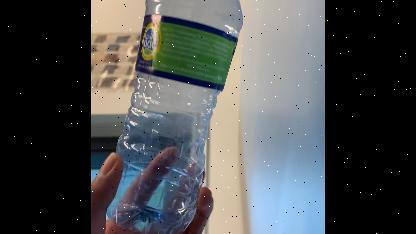Plastic Bottle: (101, 0, 255, 234)
